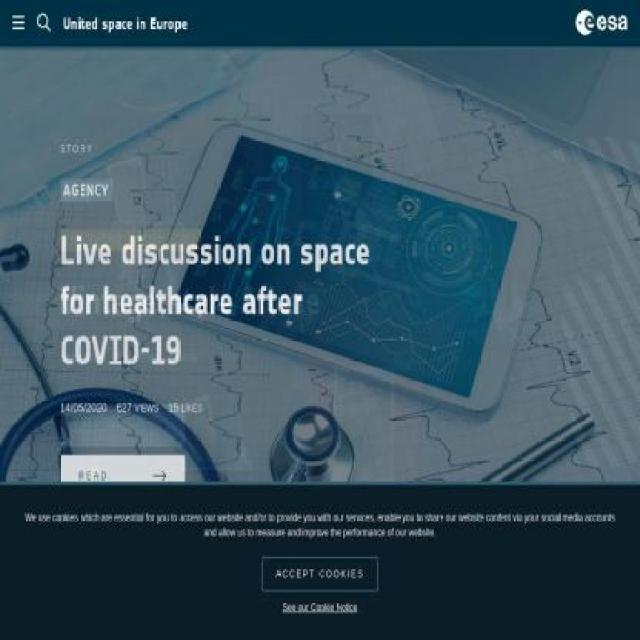button: (60, 454, 185, 497), (262, 556, 378, 592), (575, 8, 628, 38), (16, 605, 22, 613), (28, 605, 34, 613), (40, 605, 46, 613), (52, 605, 58, 613)
